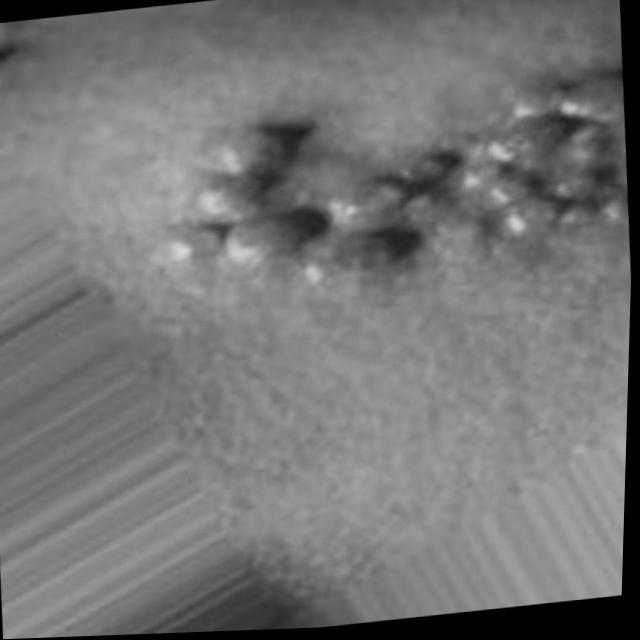Shingles: (159, 72, 634, 292)
